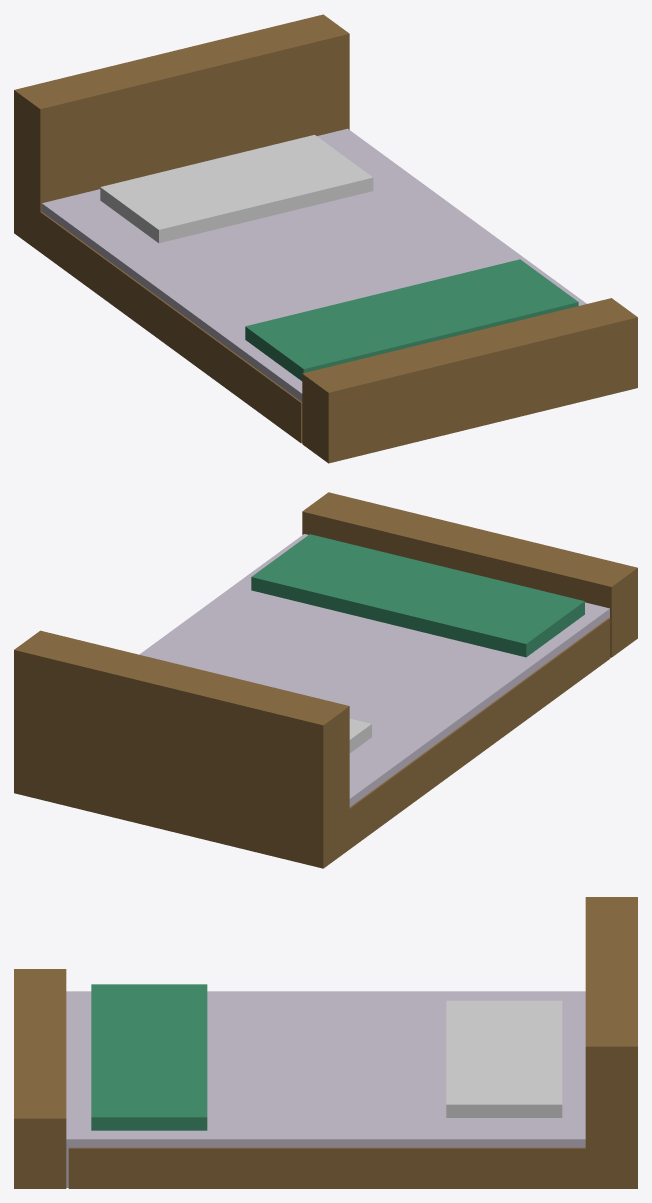
File: Funky Allis.glb
3 renders of one model, top to bottom at view 1: azimuth 30°, elevation 25°; view 2: azimuth 150°, elevation 25°; view 3: azimuth 270°, elevation 25°, orthographic.
Parts seen in each view (by area): view 1: Mesh_Mesh_head_geo.001_lambert2SG.001; view 2: Mesh_Mesh_head_geo.001_lambert2SG.001; view 3: Mesh_Mesh_head_geo.001_lambert2SG.001.
Boxes of the visible parts, x1,y1,x2,y2 form: Mesh_Mesh_head_geo.001_lambert2SG.001: [14, 14, 637, 463]; Mesh_Mesh_head_geo.001_lambert2SG.001: [14, 492, 637, 868]; Mesh_Mesh_head_geo.001_lambert2SG.001: [14, 897, 637, 1188].
Bounding box in the file's own units: 0.061 × 0.027 × 0.1074.
